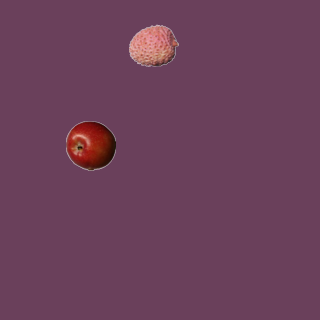Apple Braeburn: (65, 120, 115, 170)
Lychee: (128, 20, 178, 70)
